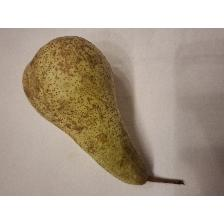Birne: (20, 34, 190, 188)
